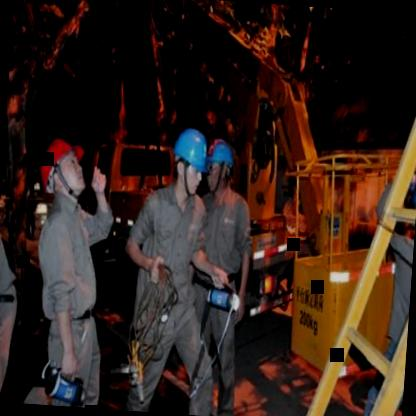helmet: (40, 134, 90, 204), (170, 123, 211, 197), (204, 139, 237, 198), (409, 170, 416, 234)
